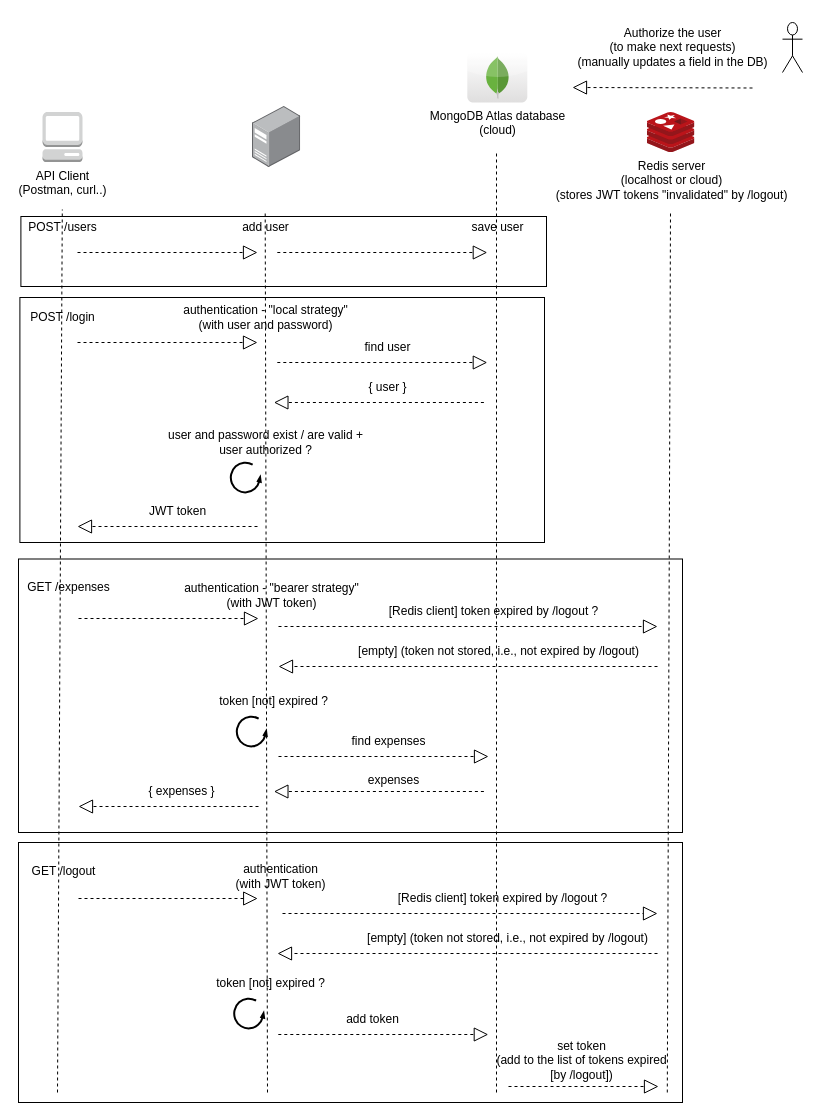
Some shapes in this 836 by 1120 pixel diagram are drawn without their labels. Here are the shapes that lost their labels. From the top down, the box of each, then its label:
(782, 22, 802, 72): DB Admin
(252, 106, 300, 167): API Rest - Node.js application server (localhost or cloud on render.com)
